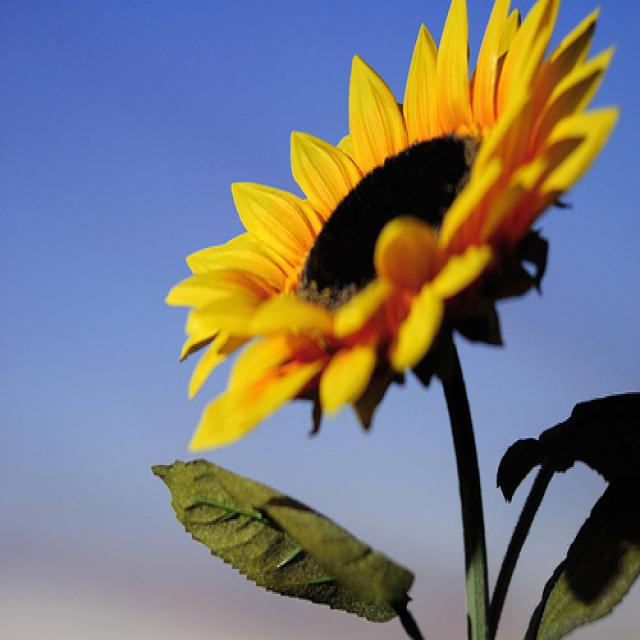sunflower: (155, 0, 626, 463)
